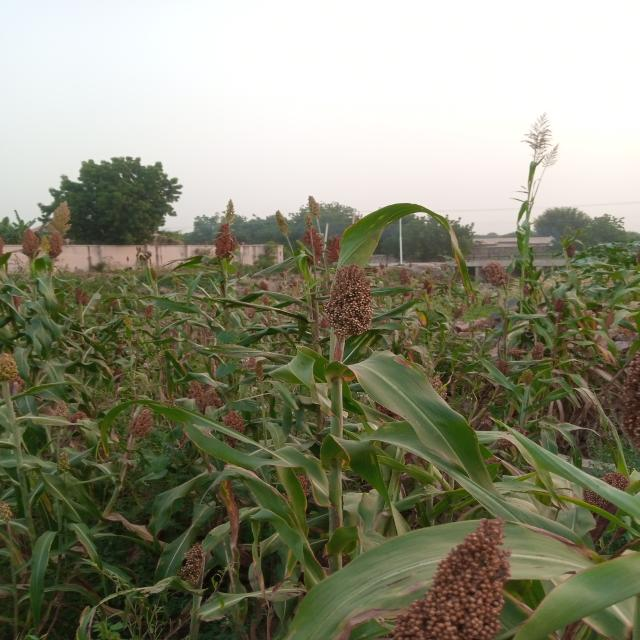RipeSorghum: (404, 518, 534, 640)
UnripeSorghum: (317, 249, 389, 357)
